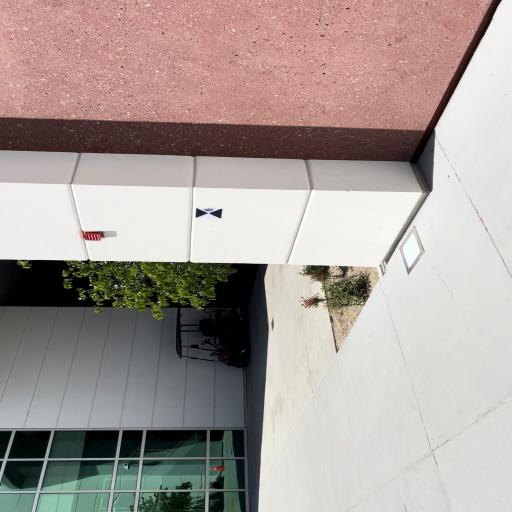target6: (195, 207, 223, 219)
